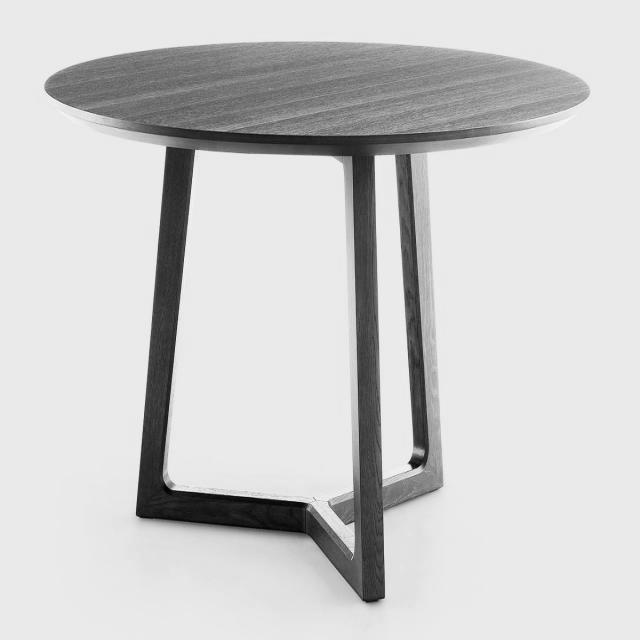table: (46, 40, 590, 604)
